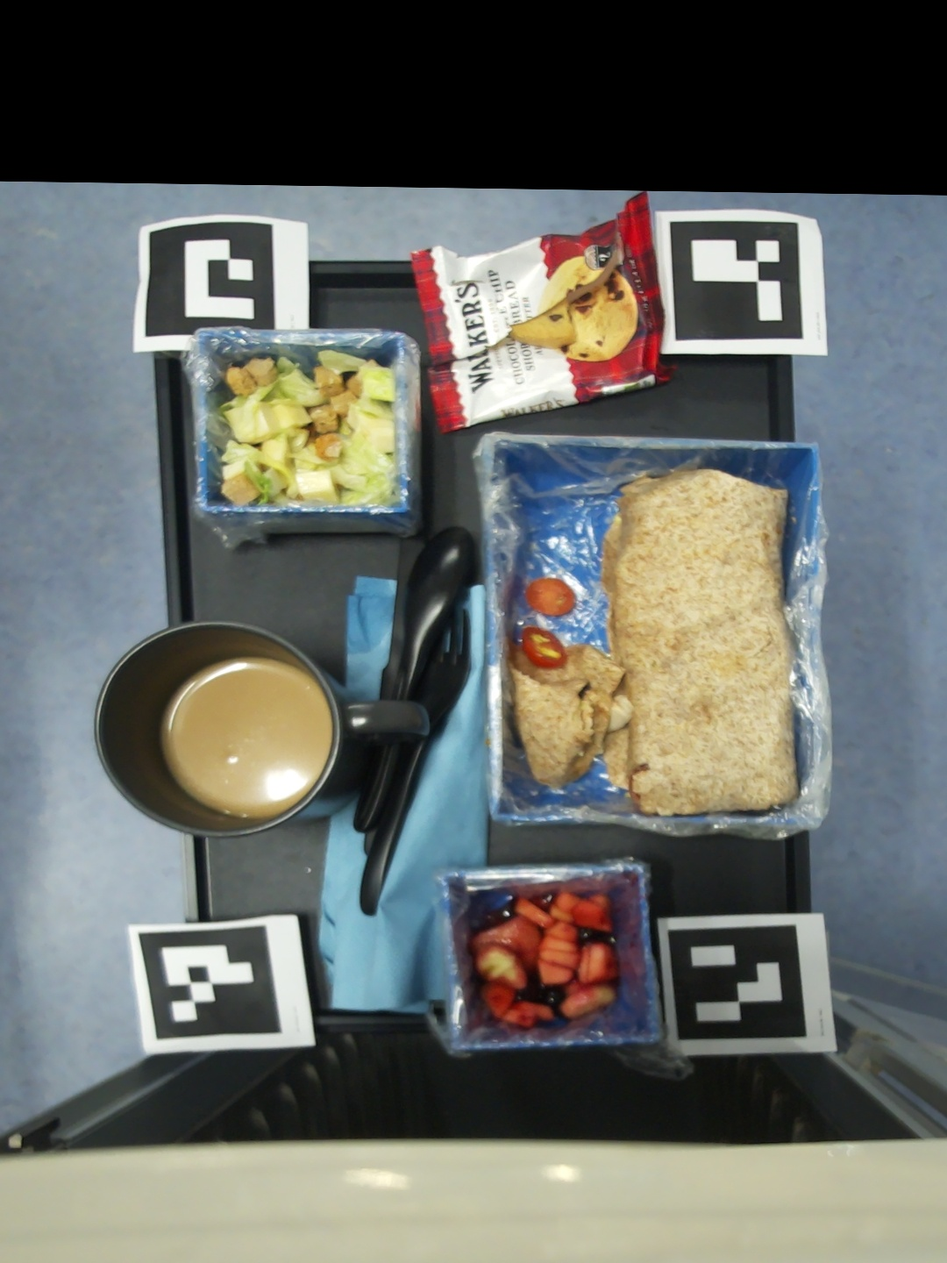coffee_cup: (92, 622, 428, 838)
cookie: (411, 191, 677, 435)
fruit_salad: (469, 892, 618, 1030)
side_salad: (210, 350, 396, 507)
wrap_half_1: (507, 626, 632, 791), (525, 579, 576, 616)
wrap_half_2: (601, 468, 799, 816)
